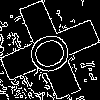O: (25, 25, 83, 79)
